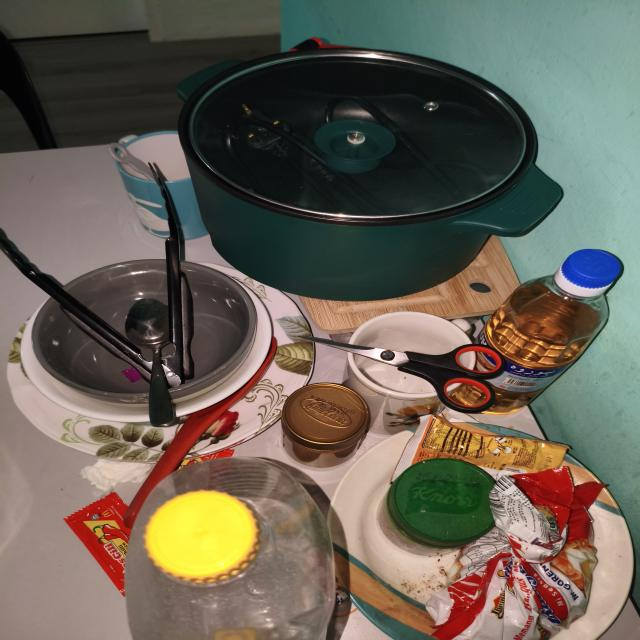scissor: (311, 338, 505, 413)
